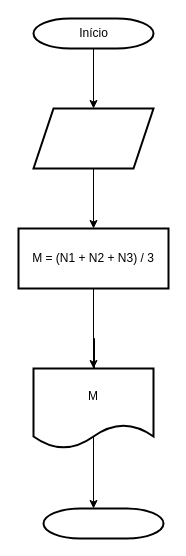
The diagram is 186 pixels wide and 556 high, and some of its shapes have lost their labels. Each missing label, with the centre of its shape:
"FIM" belongs at point 103,523.
"N1, N2, N3" belongs at point 93,138.
